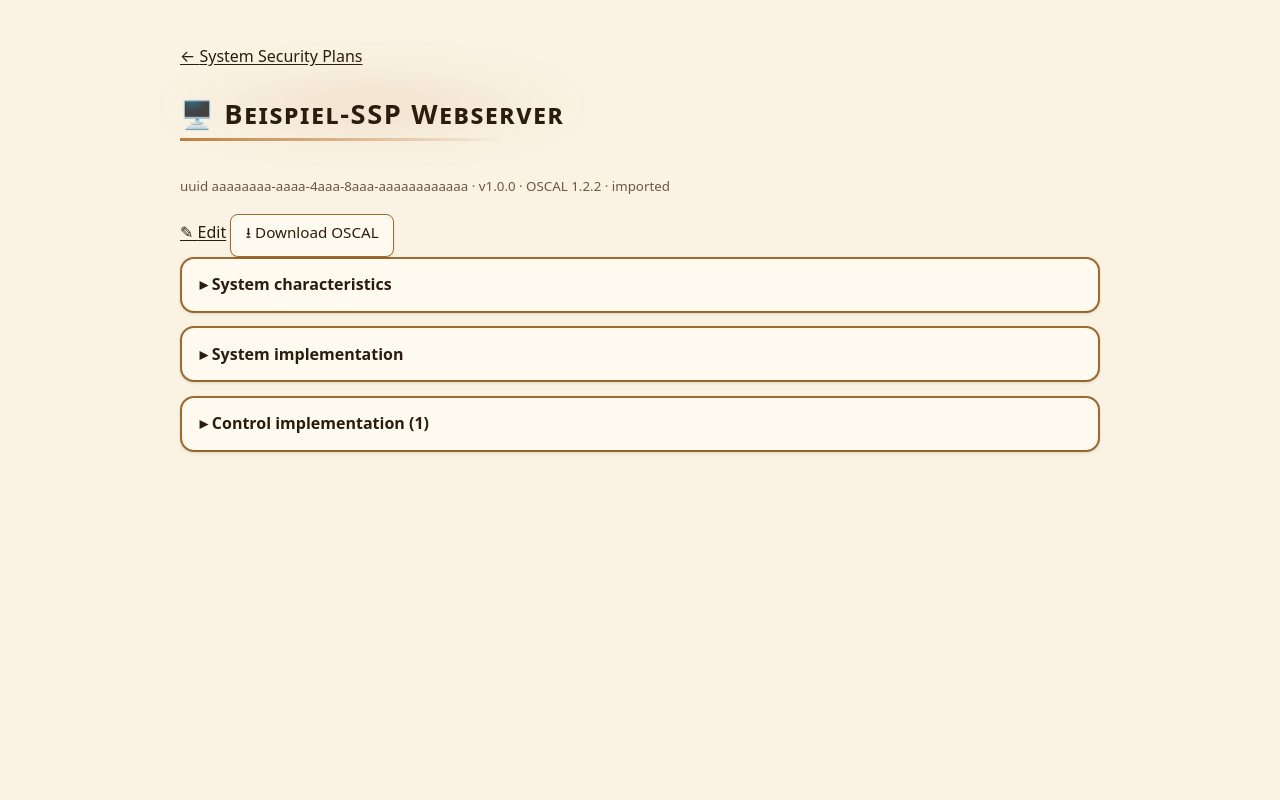
it: detail page › renders system characteristics and implemented requirements once sections are expanded
The width and height of the screenshot is (1280, 800).
expect the element with test id "ssp-detail" is shown: met, box [160,0,1120,529]
Click the button with test id "ssp-section-characteristics-toggle" at x=302, y=284, box [182,258,1098,310]
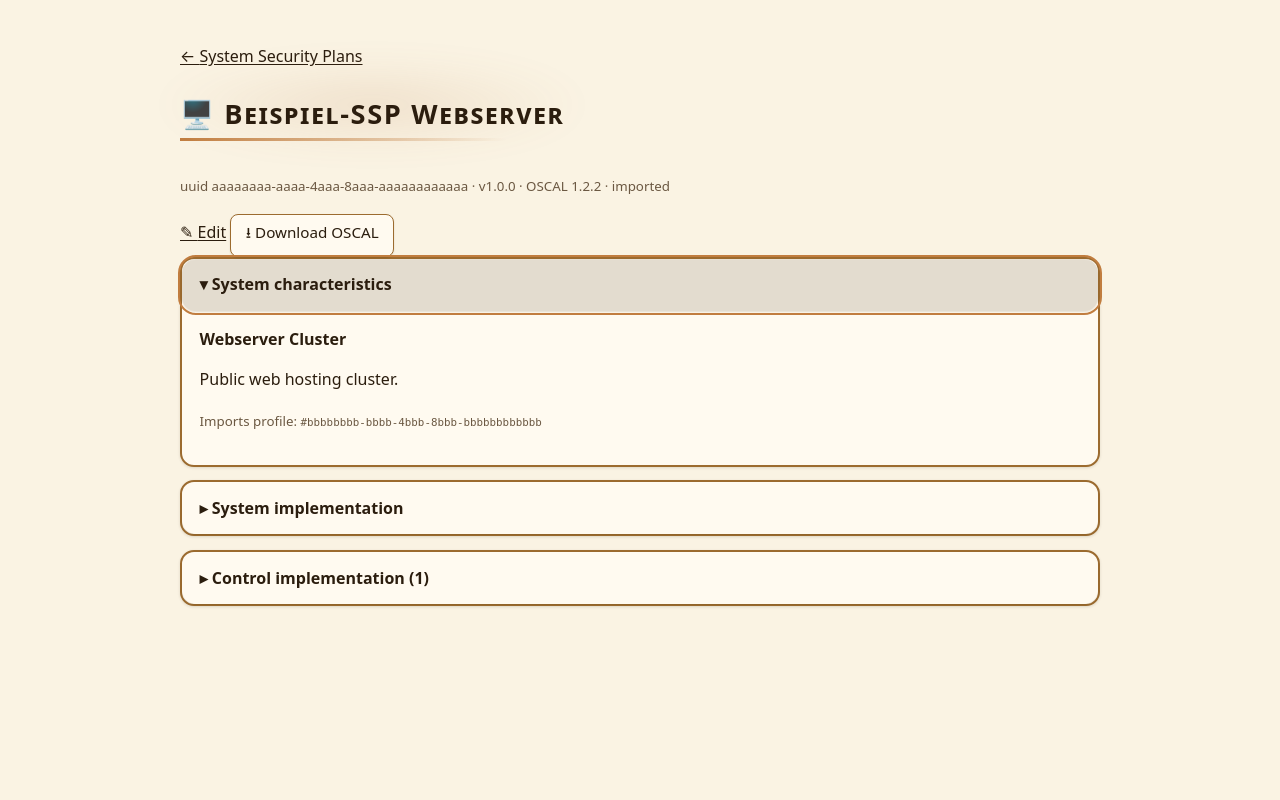
expect the element with test id "ssp-system-name" reads "Webserver Cluster": met, box [200,328,346,350]
Click the button with test id "ssp-section-control-impl-toggle" at x=320, y=578, box [182,552,1098,604]
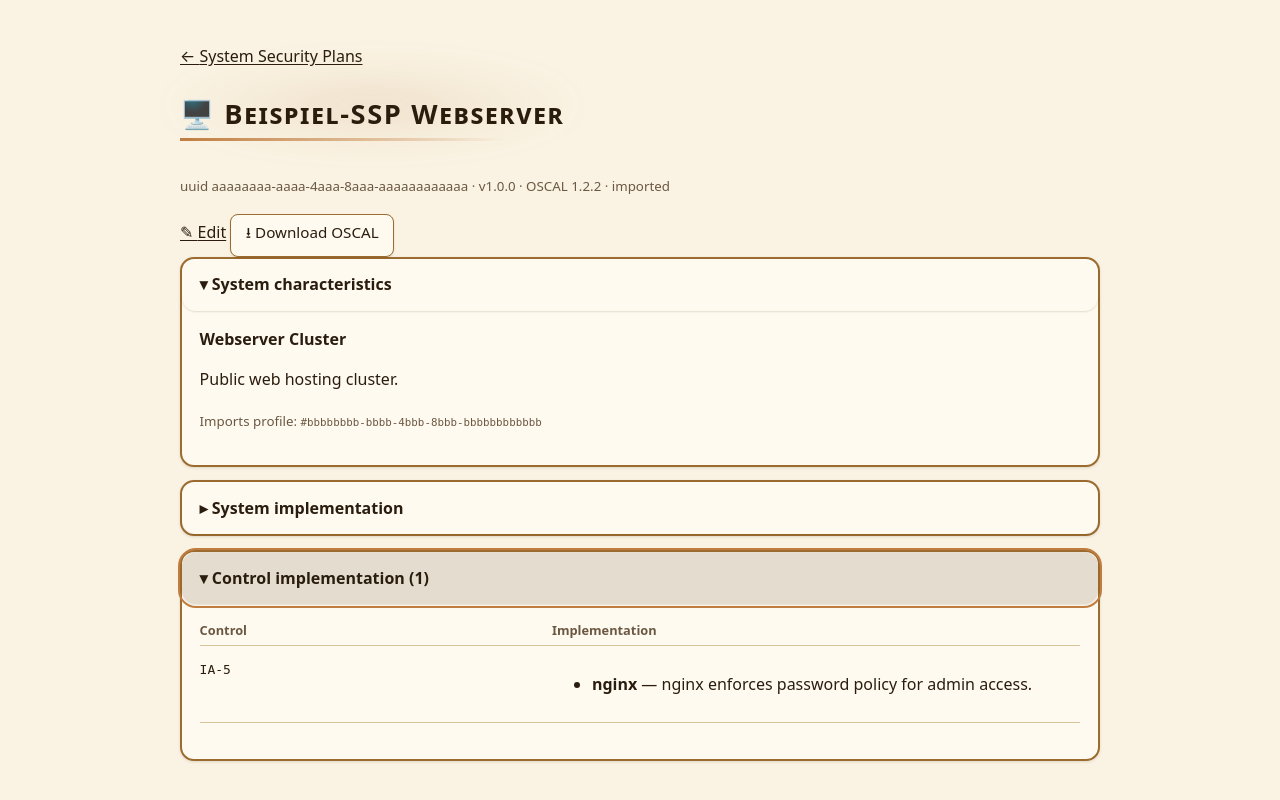
expect the table with test id "ssp-requirements-table" is shown: met, box [200,616,1080,723]
expect the row with test id "ssp-requirement" shows "IA-5": met, box [200,662,231,677]
